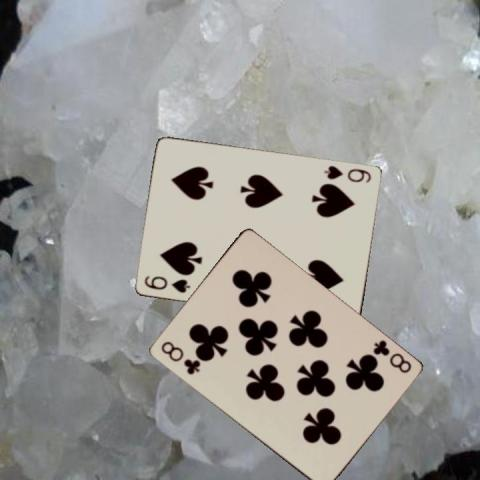6s: (322, 162, 373, 184), (141, 273, 192, 294)
8c: (158, 338, 202, 377), (369, 336, 413, 374)
